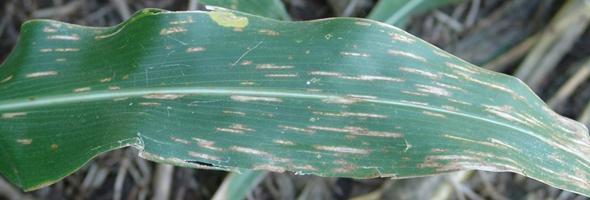Corn_Blight: (333, 4, 589, 195), (139, 84, 328, 176), (154, 5, 233, 64), (37, 12, 122, 64), (246, 43, 337, 84)
